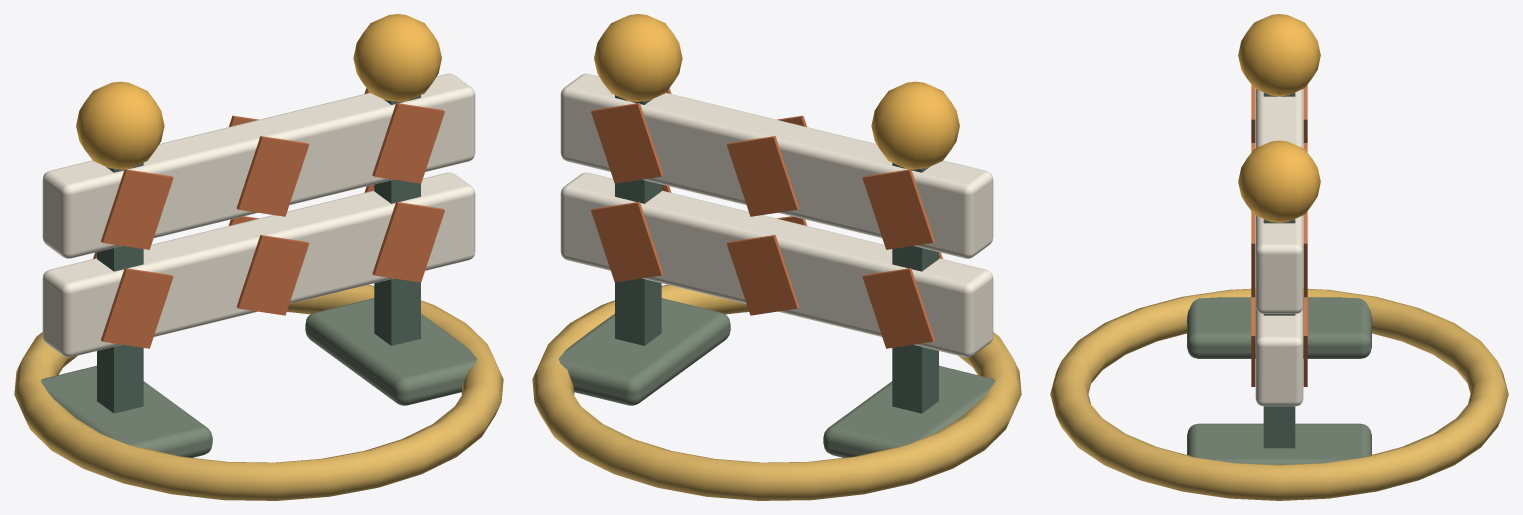
Rendered from roadblock.glb.
3 views of the same model, side by side, from view 1: azimuth 30°, elevation 25°; view 2: azimuth 150°, elevation 25°; view 3: azimuth 270°, elevation 25° (orthographic). The views are drawn at different scales.
Visible parts, largest first — view 1: 路障 · 道路拦截; view 2: 路障 · 道路拦截; view 3: 路障 · 道路拦截.
Boxes of the visible parts, x1,y1,x2,y2 form: 路障 · 道路拦截: (14, 14, 503, 500); 路障 · 道路拦截: (532, 14, 1021, 500); 路障 · 道路拦截: (1050, 14, 1508, 500).
Bounding box in the file's own units: 1.44 × 1.14 × 1.44.
